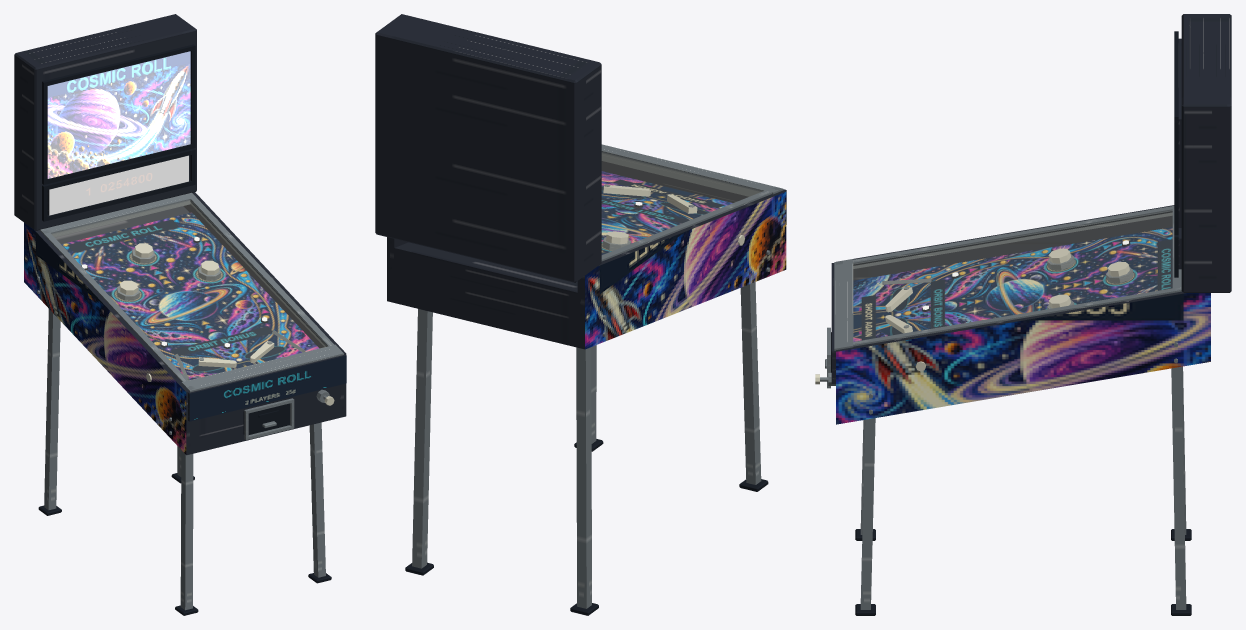
File: pinball_cosmic.glb
The picture shows the model from 3 angles, left to right: view 1: azimuth 30°, elevation 25°; view 2: azimuth 150°, elevation 25°; view 3: azimuth 270°, elevation 25°; orthographic projection. The views are drawn at different scales.
Parts seen in each view (by area): view 1: arcade_pinball_cosmic; view 2: arcade_pinball_cosmic; view 3: arcade_pinball_cosmic.
Boxes of the visible parts, bbox=[...] form: arcade_pinball_cosmic: bbox=[14, 14, 346, 615]; arcade_pinball_cosmic: bbox=[375, 14, 786, 615]; arcade_pinball_cosmic: bbox=[815, 14, 1231, 615].
Size of the model in its own units: 0.74 by 1.94 by 1.42.
Materials: 5 (5 with a texture image).
